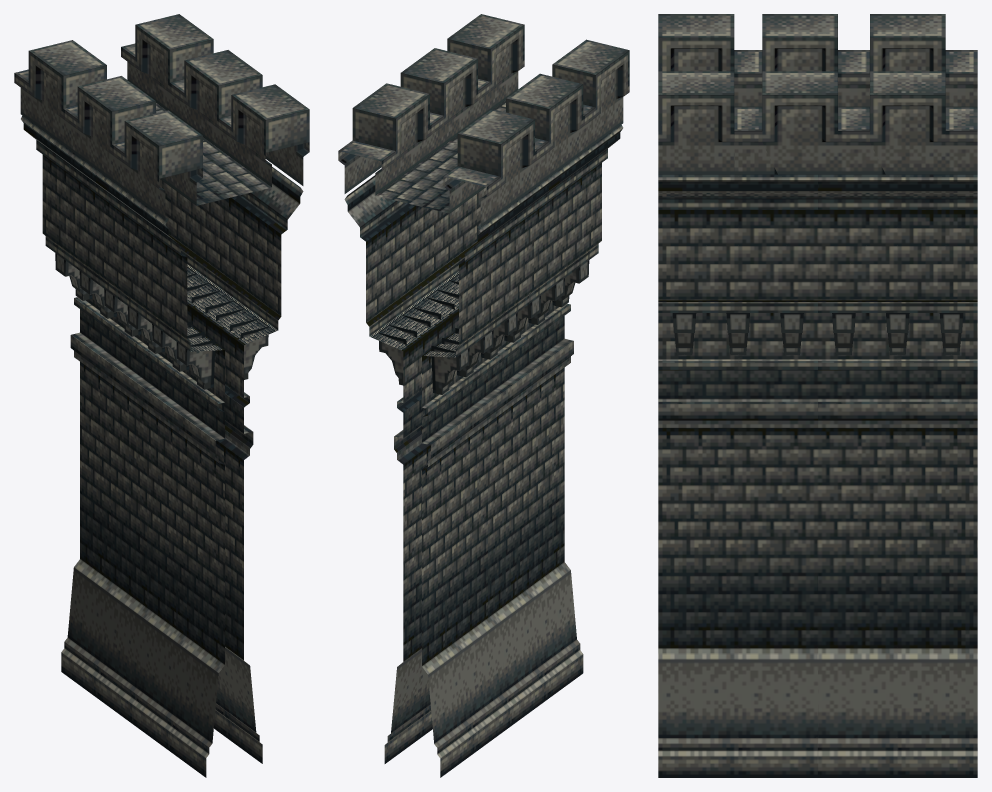
The model's file is EnvBdgMD_Castle_Rain_A_Wall_B_Loop.FBX.
3 renders of one model, left to right at view 1: azimuth 30°, elevation 25°; view 2: azimuth 150°, elevation 25°; view 3: azimuth 270°, elevation 25°, orthographic. The views are drawn at different scales.
Parts seen in each view (by area): view 1: EnvBdgMD_Castle_Rain_A_Wall_B_Loop; view 2: EnvBdgMD_Castle_Rain_A_Wall_B_Loop; view 3: EnvBdgMD_Castle_Rain_A_Wall_B_Loop.
Part boxes in pixels (left/top/right/bottom): EnvBdgMD_Castle_Rain_A_Wall_B_Loop: left=14, top=14, right=309, bottom=777; EnvBdgMD_Castle_Rain_A_Wall_B_Loop: left=338, top=14, right=629, bottom=777; EnvBdgMD_Castle_Rain_A_Wall_B_Loop: left=658, top=14, right=977, bottom=777.
Bounding box in the file's own units: 240 × 980 × 400.
